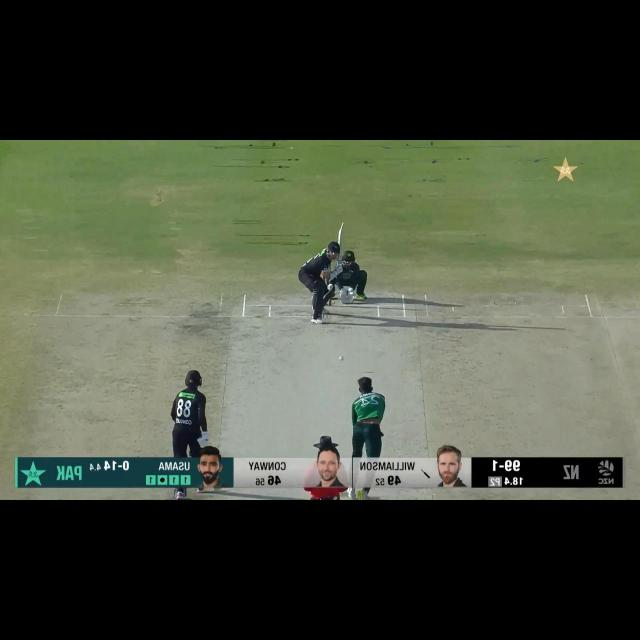bat: (333, 220, 346, 250)
toe: (338, 221, 346, 228), (214, 486, 222, 492)
